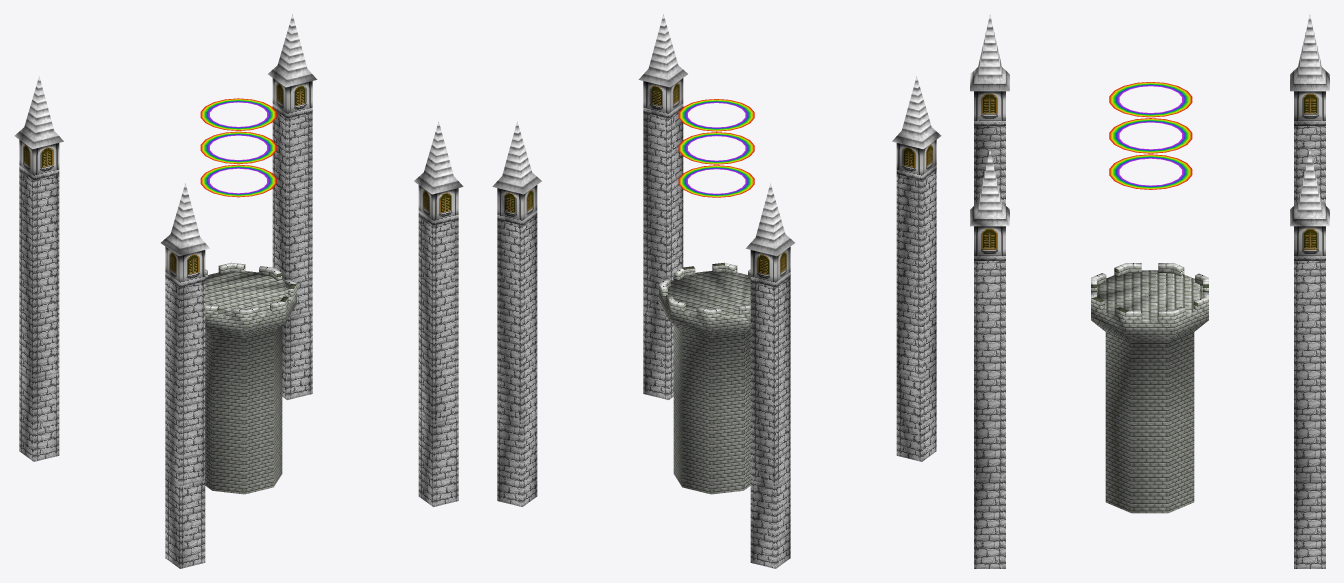
File: WingCapTower.dae
The picture shows the model from 3 angles, left to right: view 1: azimuth 30°, elevation 25°; view 2: azimuth 150°, elevation 25°; view 3: azimuth 270°, elevation 25°; orthographic projection. The views are drawn at different scales.
Visible parts, largest first — view 1: _000_geometry, _002_geometry, _001_geometry, _003_geometry, _004_geometry; view 2: _000_geometry, _002_geometry, _001_geometry, _003_geometry, _004_geometry; view 3: _000_geometry, _002_geometry, _001_geometry, _003_geometry, _004_geometry.
Part boxes in pixels (left/top/right/bottom): _000_geometry: left=19, top=110, right=458, bottom=568; _002_geometry: left=205, top=262, right=296, bottom=494; _001_geometry: left=14, top=14, right=463, bottom=256; _003_geometry: left=19, top=78, right=458, bottom=287; _004_geometry: left=200, top=98, right=276, bottom=197; _000_geometry: left=497, top=110, right=936, bottom=568; _002_geometry: left=659, top=262, right=750, bottom=494; _001_geometry: left=492, top=14, right=941, bottom=256; _003_geometry: left=497, top=78, right=936, bottom=287; _004_geometry: left=678, top=99, right=754, bottom=197; _000_geometry: left=974, top=126, right=1325, bottom=568; _002_geometry: left=1091, top=263, right=1208, bottom=513; _001_geometry: left=970, top=14, right=1329, bottom=226; _003_geometry: left=974, top=91, right=1325, bottom=260; _004_geometry: left=1109, top=82, right=1192, bottom=189.
Bounding box in the file's own units: 9215 × 11673 × 9215.
Materials: 5 (5 with a texture image).
